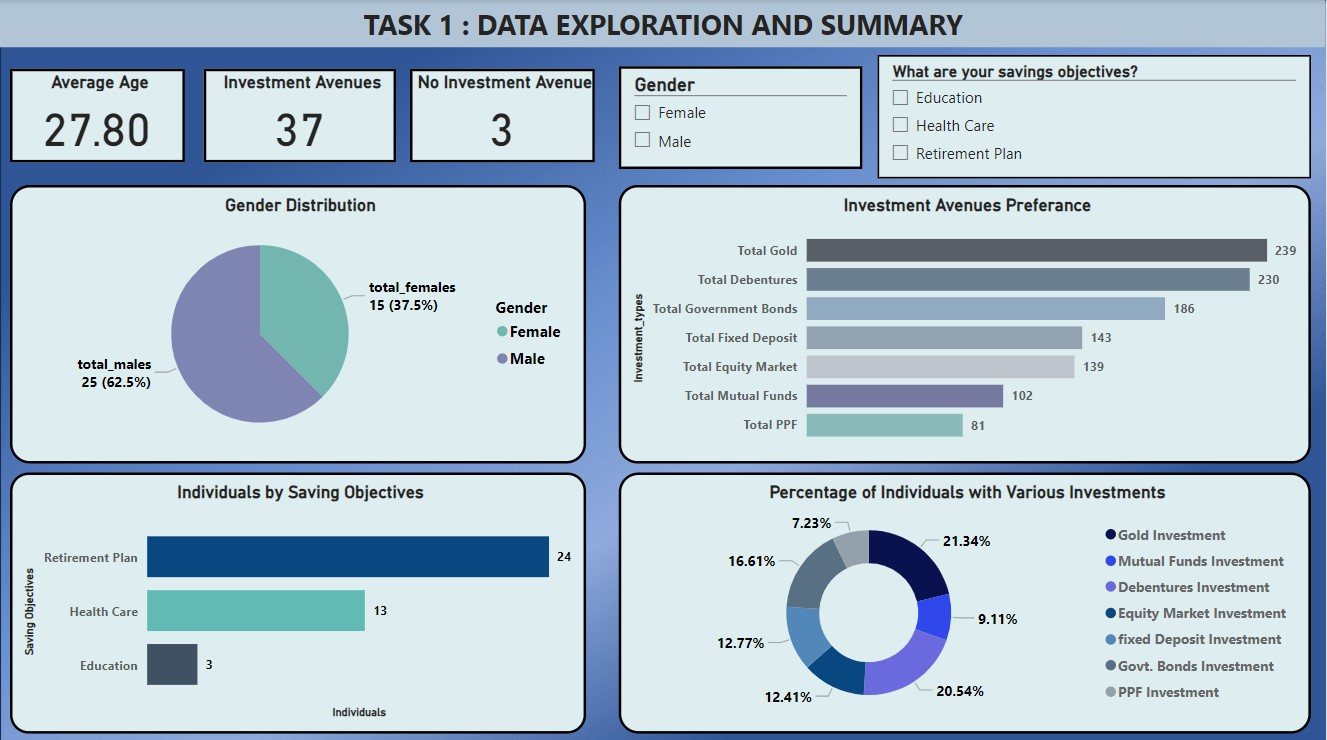

The dashboard page shown, as its layout file describes it:
{"tool":"powerbi","page":{"name":"TASK 1","canvas":[1280,720],"ordinal":0},"visuals":[{"type":"textbox","box":[0,0,1280,45.8],"z":0},{"type":"card","title":"Average Age","fields":{"Values":["Sales_data.Average_age"]},"box":[9.7,66.4,168.9,90.5],"z":1000},{"type":"card","title":"Investment Avenues","fields":{"Values":["Sales_data.Total_investment_avenue"]},"box":[196.6,66.4,185.8,90.5],"z":2000},{"type":"card","title":"No Investment Avenue","fields":{"Values":["Sales_data.No_investment_avenue"]},"box":[395.7,66.4,178.6,90.5],"z":3000},{"type":"slicer","title":"Gender","fields":{"Values":["Sales_data.gender"]},"box":[597.2,63.9,235.3,98.9],"z":4000},{"type":"pieChart","title":"Gender Distribution","fields":{"Category":["Sales_data.gender"],"Y":["Sales_data.total_females","Sales_data.total_males"]},"box":[9.7,178.6,556.2,269],"z":5000},{"type":"slicer","fields":{"Values":["Sales_data.What are your savings objectives?"]},"box":[846.9,53.1,418.6,119.4],"z":6000},{"type":"barChart","title":"Individuals by Saving Objectives","fields":{"Category":["Sales_data.What are your savings objectives?"],"Y":["CountNonNull(Sales_data.gender)"]},"box":[9.7,456,556.2,252.1],"z":7000},{"type":"donutChart","title":"Percentage of Individuals with Various Investments","fields":{"Y":["Sales_data.average_gold","Sales_data.average_mutualfunds","Sales_data.average_debentures","Sales_data.average_equitymarket","Sales_data.average_fixeddeposits","Sales_data.average_govtbonds","Sales_data.average_ppf"]},"box":[597.2,456,668.4,252.1],"z":8000},{"type":"barChart","title":"Investment Avenues Preferance","fields":{"Category":["Table (2).Investment_types"],"Y":["Sum(Table (2).values)"]},"box":[597.2,178.6,668.4,269],"z":9000}]}

Visuals, with their boxes in screenshot pixels (x1, y1, x2, y2), scaled from the page's 1280x720 canvas onto the 1327x740 screenshot:
textbox: 0/0/1326/47
"Average Age" card: 10/68/185/161
"Investment Avenues" card: 204/68/396/161
"No Investment Avenue" card: 410/68/595/161
"Gender" slicer: 619/66/863/167
"Gender Distribution" pieChart: 10/184/587/460
slicer - Sales_data.What are your savings objectives?: 878/55/1312/177
"Individuals by Saving Objectives" barChart: 10/469/587/728
"Percentage of Individuals with Various Investments" donutChart: 619/469/1312/728
"Investment Avenues Preferance" barChart: 619/184/1312/460
